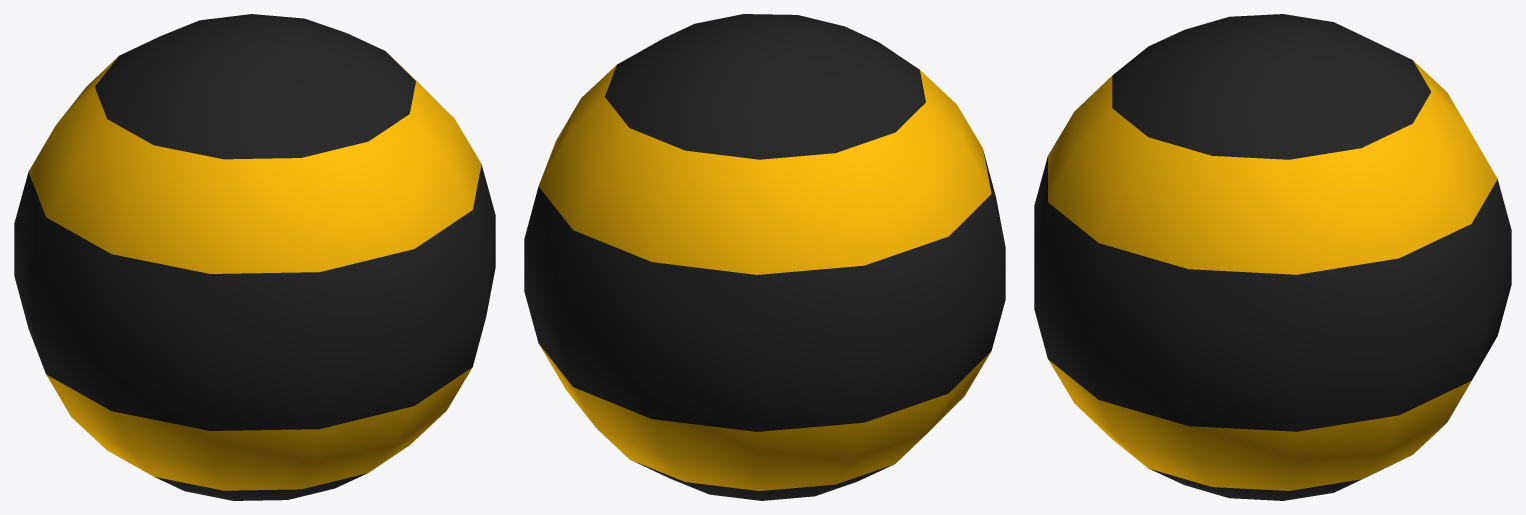
Rendered from D_Ball12_06.fbx.
The picture shows the model from 3 angles, left to right: view 1: azimuth 30°, elevation 25°; view 2: azimuth 150°, elevation 25°; view 3: azimuth 270°, elevation 25°; orthographic projection.
Parts seen in each view (by area): view 1: D_Ball12_06; view 2: D_Ball12_06; view 3: D_Ball12_06.
Boxes of the visible parts, left/top/right/bottom form: D_Ball12_06: left=14, top=14, right=495, bottom=500; D_Ball12_06: left=524, top=14, right=1005, bottom=500; D_Ball12_06: left=1034, top=14, right=1511, bottom=500.
Bounding box in the file's own units: 0.9798 × 0.9943 × 0.9727.
